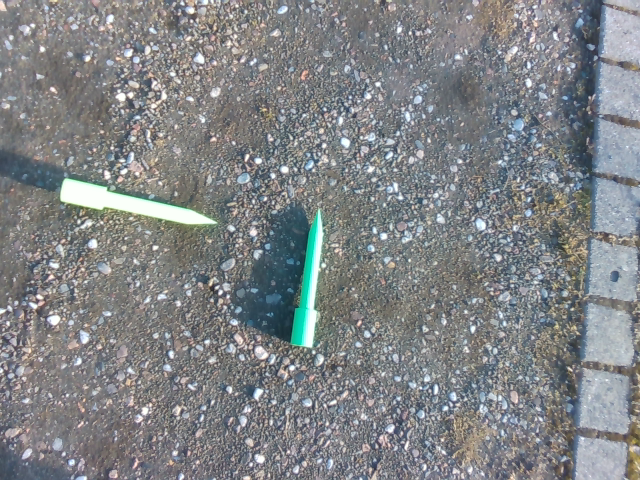Probe: (56, 171, 224, 234), (287, 206, 335, 353)
